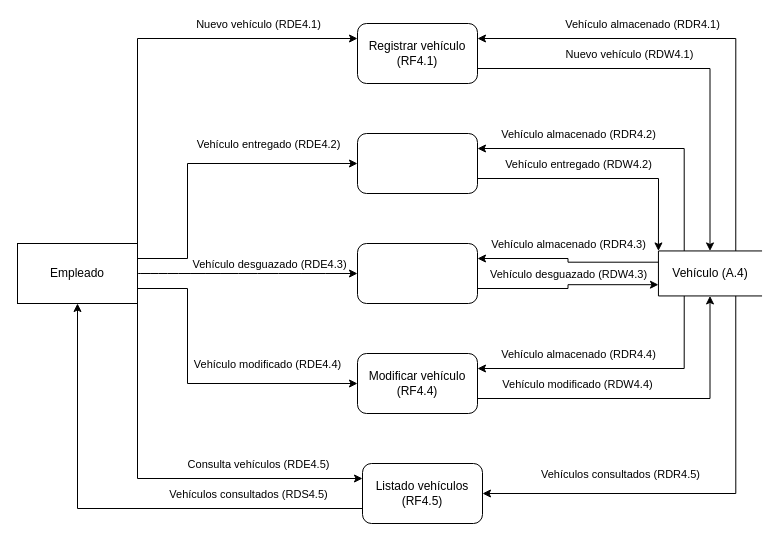
This 780x541 diagram has some shape labels left out. The box of each missing label's shape, as (x1, y1, x2, y2) in pixels:
Desguazar vehículo (RF4.3): (356, 242, 478, 304)
Entregar vehículo (RF4.2): (356, 132, 478, 194)
